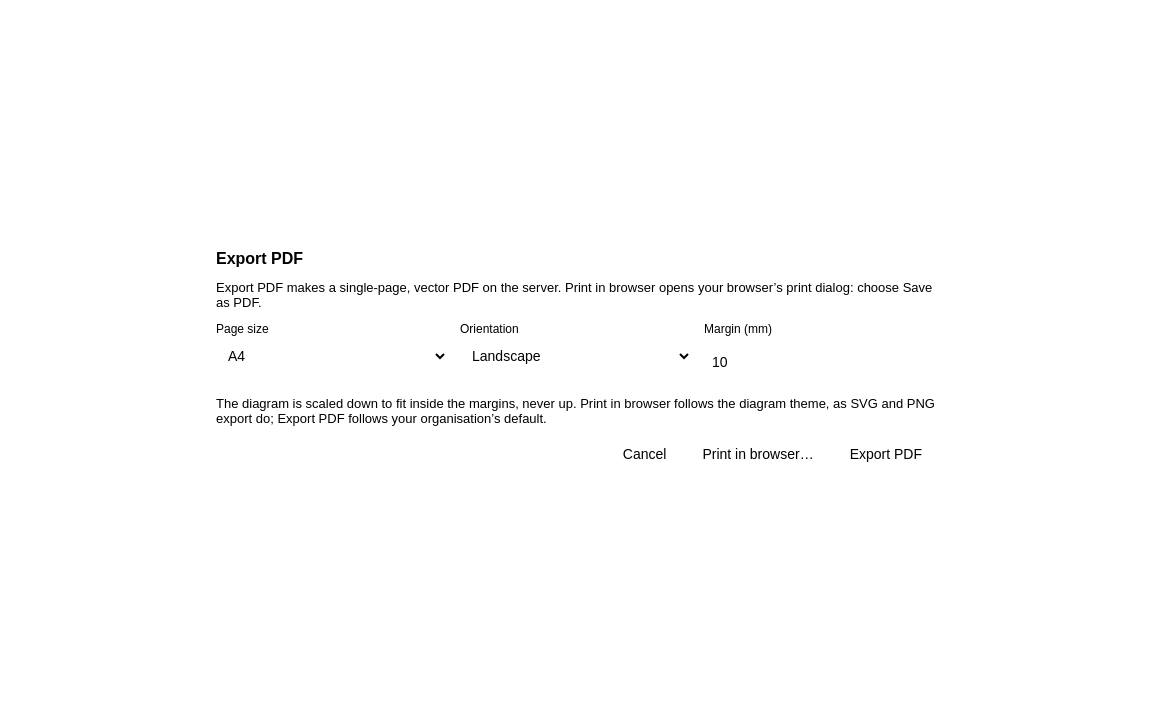
Test case: ExportPdfDialog › disables orientation for Fit, where the page takes the drawing’s shape
Select "Fit to diagram" in the dropdown labelled "Page size" at (332, 356), box x1=216 y1=340 x2=448 y2=372
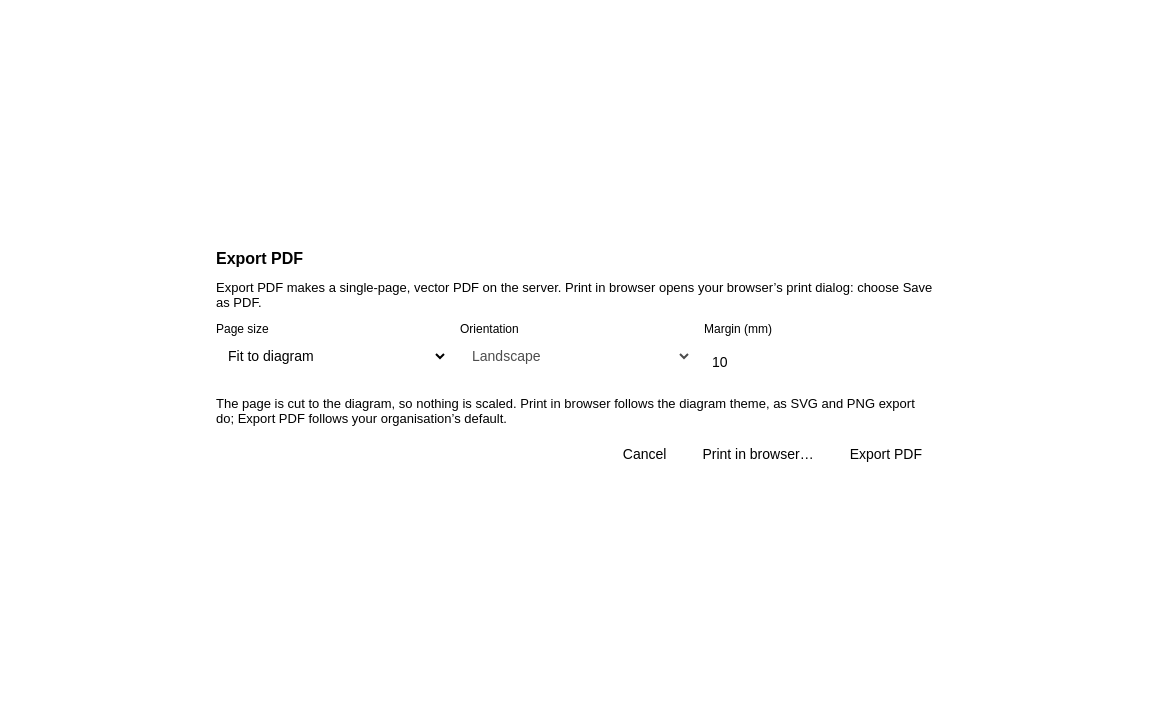
Expected: the dropdown labelled "Orientation" is disabled, x1=460 y1=340 x2=692 y2=372
Select "A3" in the dropdown labelled "Page size" at (332, 356), box x1=216 y1=340 x2=448 y2=372
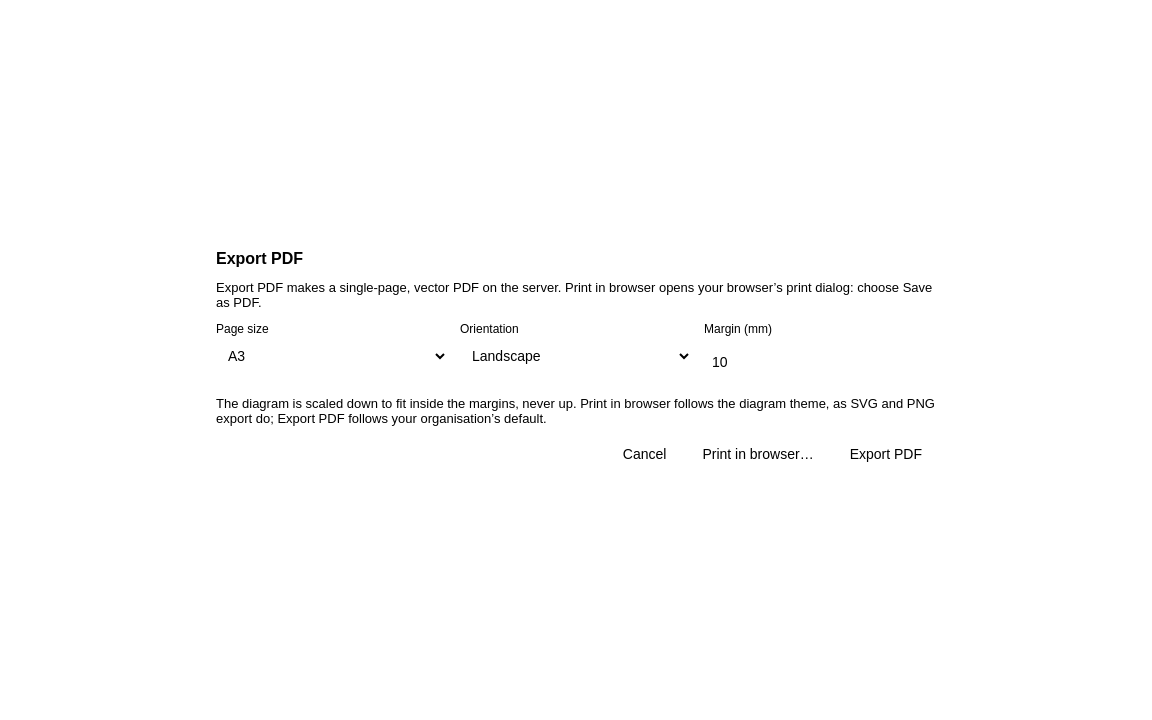
Expected: the dropdown labelled "Orientation" is enabled, x1=460 y1=340 x2=692 y2=372
